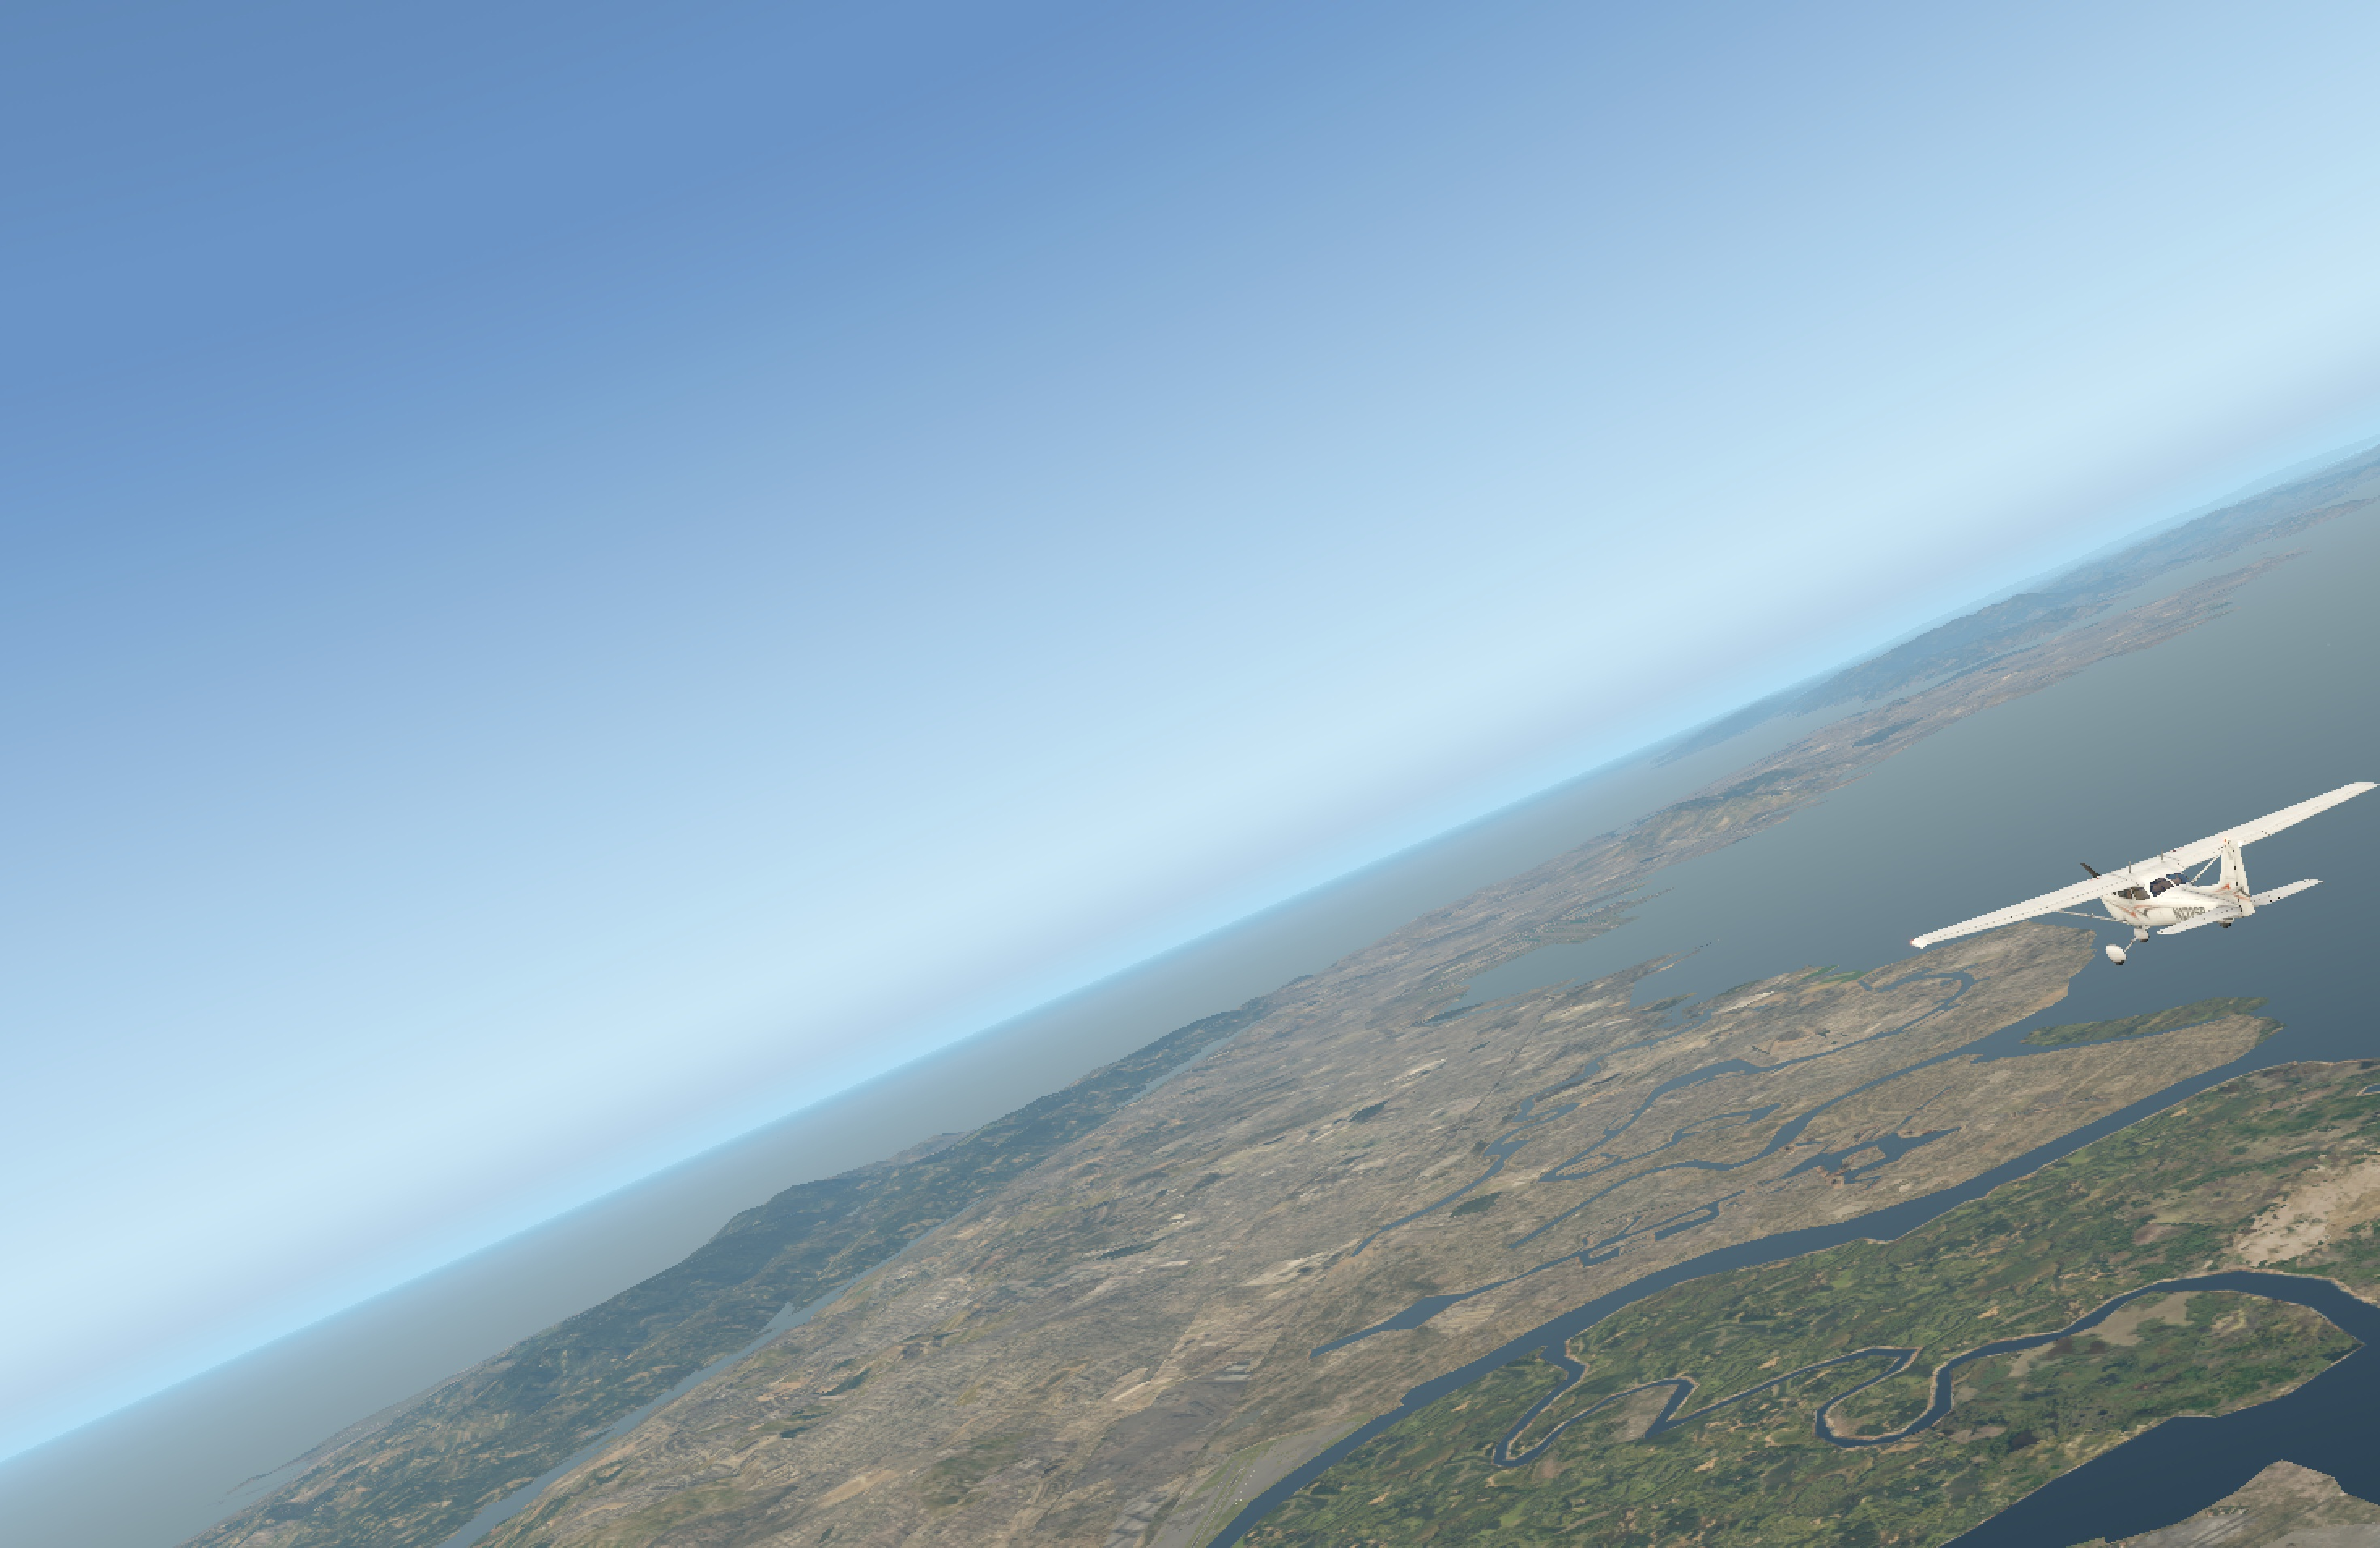aircraft: (1993, 835, 2302, 949)
